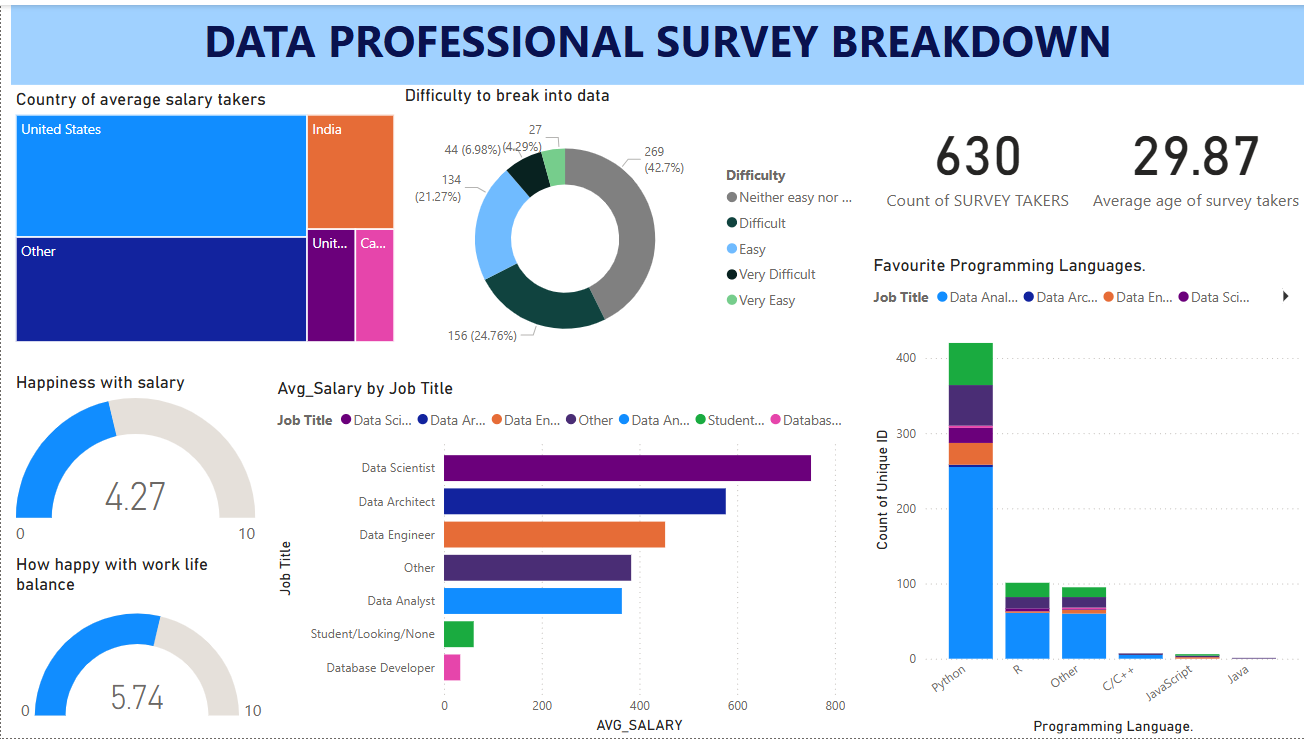

What the dashboard file says about the page in this screenshot:
{"tool":"powerbi","page":{"name":"Page 1","canvas":[1280,720],"ordinal":0},"visuals":[{"type":"textbox","box":[9.6,0,1270.7,78.2],"z":0},{"type":"card","fields":{"Values":["CountNonNull(Data Professional Survey.Unique ID)"]},"box":[851.2,78.8,215,147.5],"z":1000},{"type":"card","fields":{"Values":["Avg(Data Professional Survey.Q10 - Current Age)"]},"box":[1066.2,78.8,213.8,147.5],"z":2000},{"type":"barChart","title":" Avg_Salary by Job Title","fields":{"Category":["Data Professional Survey.Q1 - Which Title Best Fits your Current Role?.1"],"Y":["Avg(Data Professional Survey.AVG_SALARY)"],"Series":["Data Professional Survey.Q1 - Which Title Best Fits your Current Role?.1"]},"box":[266.2,366.2,567.5,353.8],"z":3000},{"type":"columnChart","title":"Favourite  Programming Languages.","fields":{"Category":["Data Professional Survey.Q5 - Favorite Programming Language.1"],"Y":["CountNonNull(Data Professional Survey.Unique ID)"],"Series":["Data Professional Survey.Q1 - Which Title Best Fits your Current Role?.1"]},"box":[851.2,245,428.8,475],"z":4000},{"type":"treemap","title":"Country of average salary takers ","fields":{"Group":["Data Professional Survey.Q11 - Which Country do you live in?.1"],"Values":["CountNonNull(Data Professional Survey.Q11 - Which Country do you live in?.1)"]},"box":[10,82.5,381.2,253.8],"z":5000},{"type":"gauge","title":"How happy with work life balance ","fields":{"Y":["Avg(Data Professional Survey.Q6 - How Happy are you in your Current Position with the following? (Work/Life Balance))"],"MinValue":["Min(Data Professional Survey.Q6 - How Happy are you in your Current Position with the following? (Work/Life Balance))"],"MaxValue":["Max(Data Professional Survey.Q6 - How Happy are you in your Current Position with the following? (Work/Life Balance))"]},"box":[10,538.8,256.2,181.2],"z":6000},{"type":"gauge","title":"Happiness with salary","fields":{"Y":["Avg(Data Professional Survey.Q6 - How Happy are you in your Current Position with the following? (Salary))"],"MinValue":["Min(Data Professional Survey.Q6 - How Happy are you in your Current Position with the following? (Salary))1"],"MaxValue":["Max(Data Professional Survey.Q6 - How Happy are you in your Current Position with the following? (Salary))2"]},"box":[10,360,245,181.2],"z":7000},{"type":"donutChart","title":"Difficulty to break into data ","fields":{"Category":["Data Professional Survey.Q7 - How difficult was it for you to break into Data?"],"Y":["CountNonNull(Data Professional Survey.Q7 - How difficult was it for you to break into Data?)"]},"box":[391.2,78.8,460,281.2],"z":8000}]}

Visuals, with their boxes in screenshot pixels (x1, y1, x2, y2), scaled from the page's 1280x720 canvas onto the 1304x739 screenshot:
textbox: <region>10, 0, 1303, 80</region>
card - CountNonNull(Data Professional Survey.Unique ID): <region>867, 81, 1086, 232</region>
card - Avg(Data Professional Survey.Q10 - Current Age): <region>1086, 81, 1303, 232</region>
" Avg_Salary by Job Title" barChart: <region>271, 376, 849, 738</region>
"Favourite  Programming Languages." columnChart: <region>867, 251, 1303, 738</region>
"Country of average salary takers " treemap: <region>10, 85, 399, 345</region>
"How happy with work life balance " gauge: <region>10, 553, 271, 738</region>
"Happiness with salary" gauge: <region>10, 369, 260, 555</region>
"Difficulty to break into data " donutChart: <region>399, 81, 867, 369</region>
